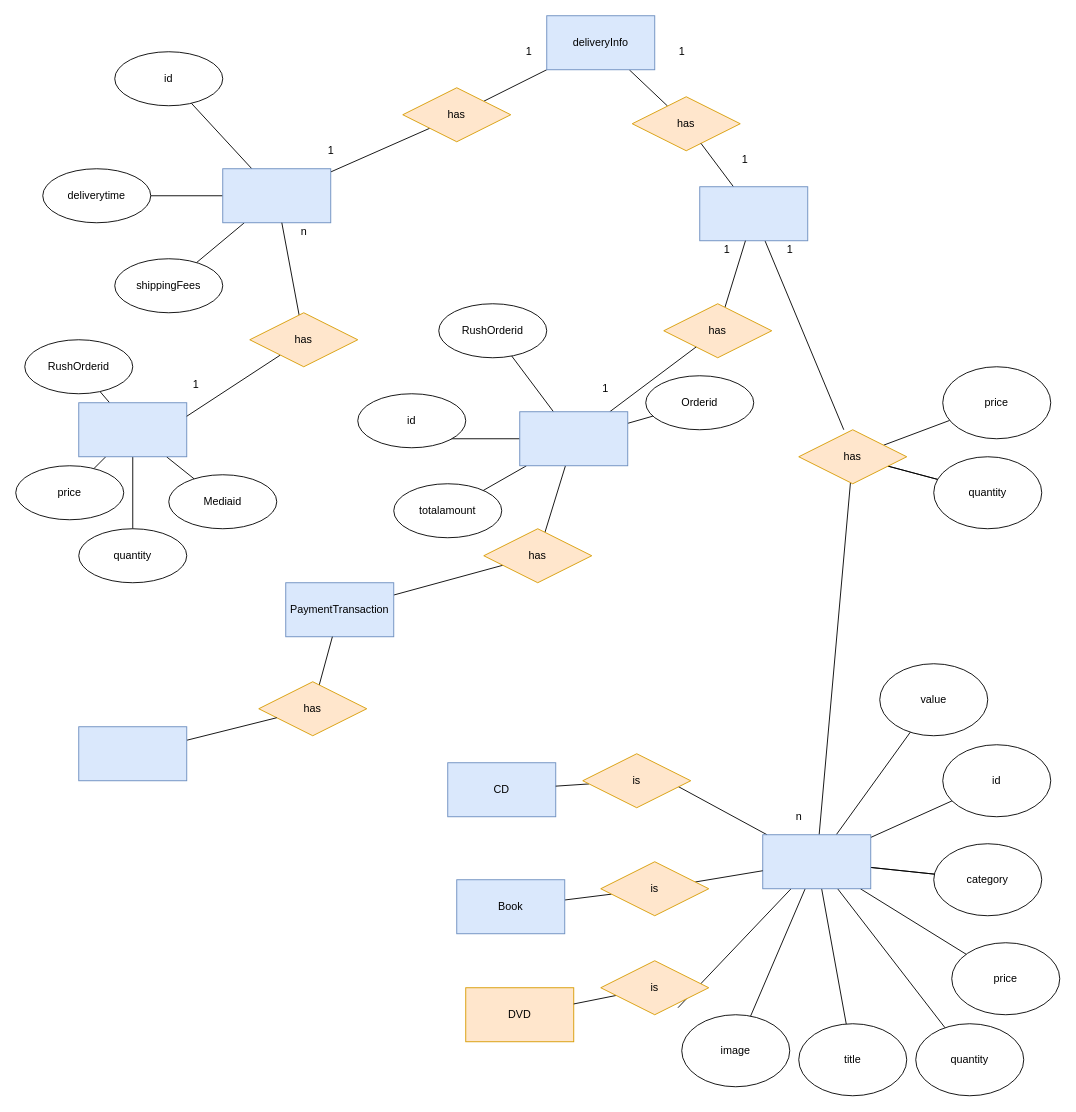
Image size: 1076x1112. Some labels were removed from this diagram. The centre of each missing label's shape, as x and y in pixels:
Card: [132,753]
invoice: [573,438]
Media: [816,861]
Order: [753,213]
RushOrder: [276,195]
RushOrderMedia: [132,429]
